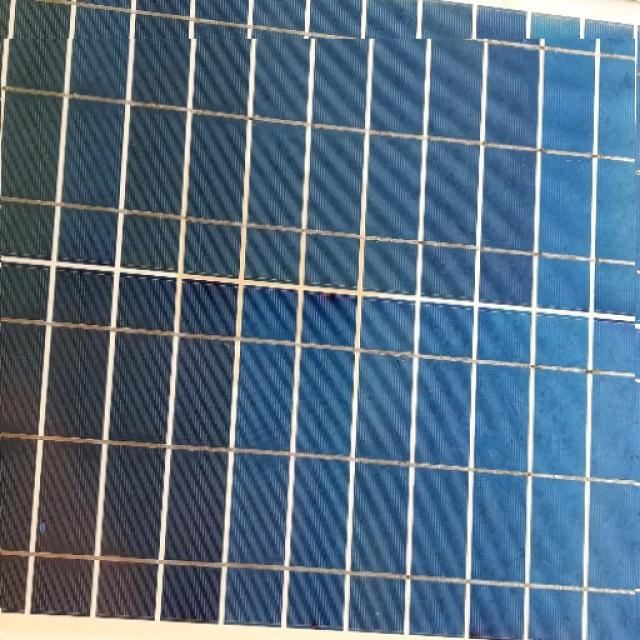Clean: (1, 39, 635, 640)
